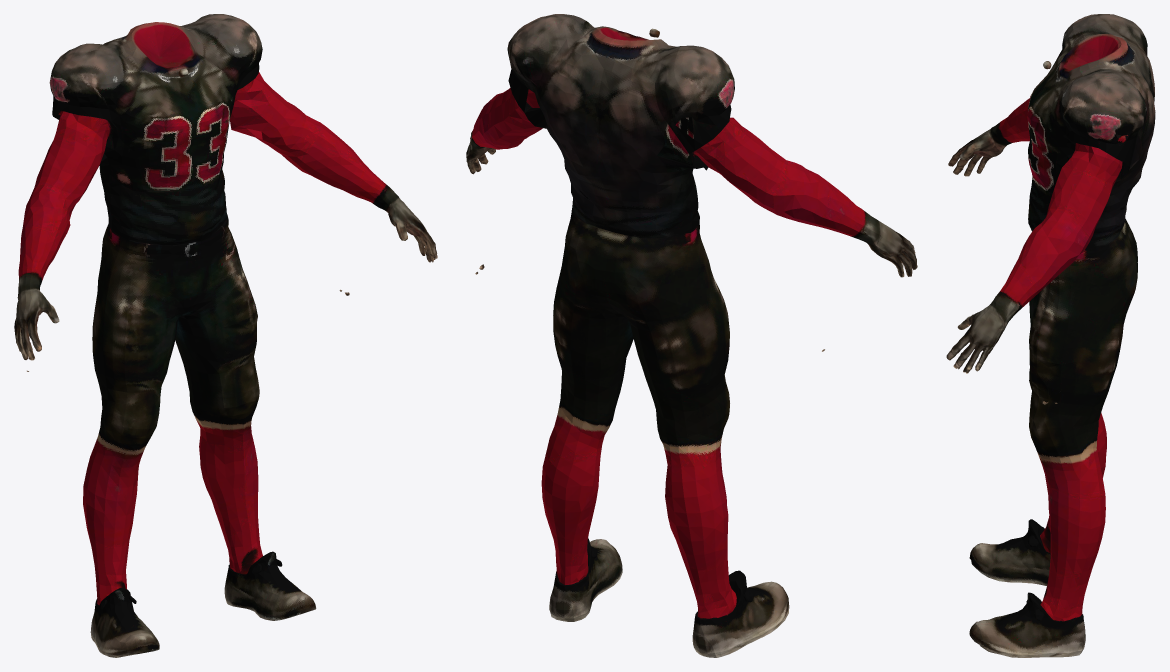
Rendered from ewm_t2quarterback_outfit.glb.
The picture shows the model from 3 angles, left to right: view 1: azimuth 30°, elevation 25°; view 2: azimuth 150°, elevation 25°; view 3: azimuth 270°, elevation 25°; orthographic projection. The views are drawn at different scales.
Visible parts, largest first — view 1: ewm_t2quarterback_outfit; view 2: ewm_t2quarterback_outfit; view 3: ewm_t2quarterback_outfit.
Boxes of the visible parts, x1=… form: ewm_t2quarterback_outfit: x1=14, y1=14, x2=437, y2=657; ewm_t2quarterback_outfit: x1=466, y1=14, x2=917, y2=657; ewm_t2quarterback_outfit: x1=946, y1=14, x2=1155, y2=657.
Size of the model in its own units: 1.25 by 1.67 by 0.5508.
1 material, 1 textured.
